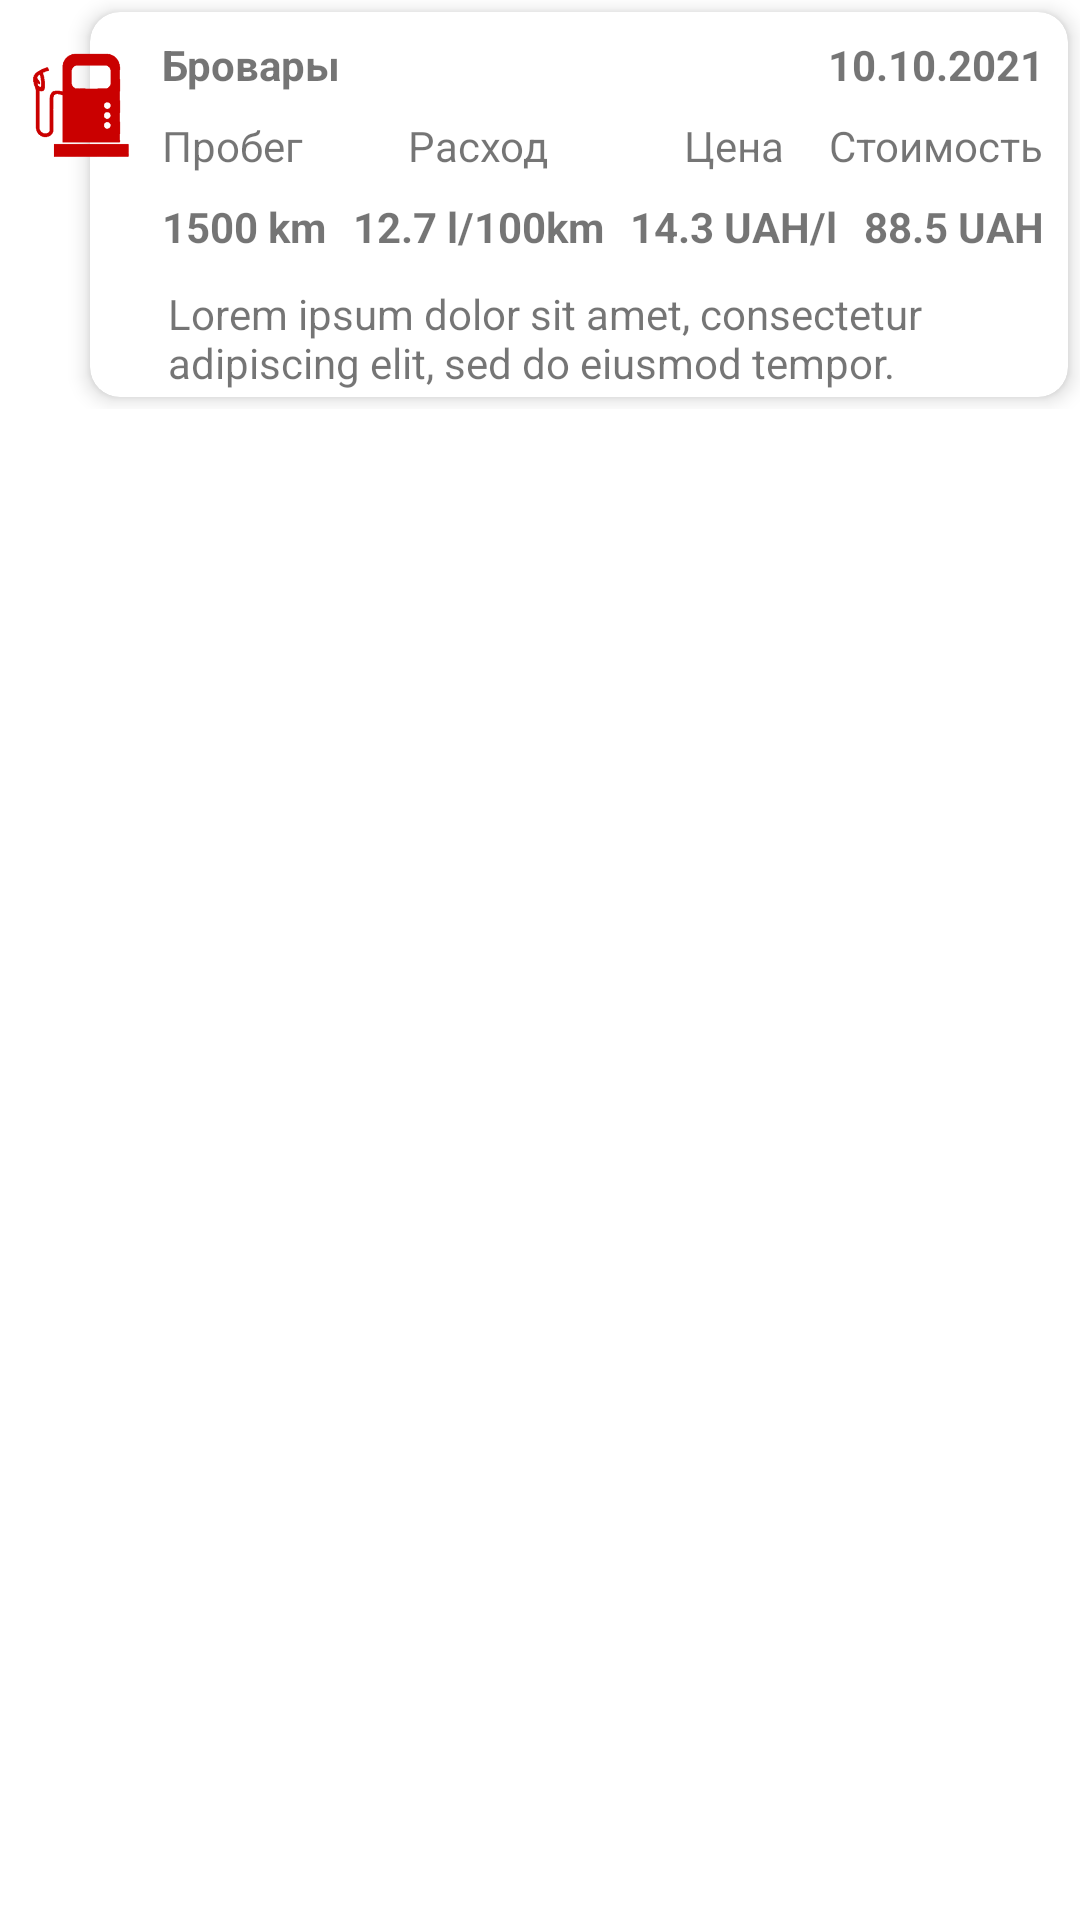

Icon bounding boxes for this 1080px×1920px phone screenshot, format region(x1, y1, x2, y2):
Fuel image: region(33, 48, 129, 162)
